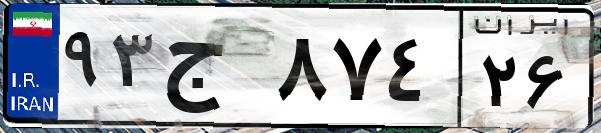2: (475, 38, 525, 113)
3: (110, 28, 158, 98)
4: (385, 28, 445, 110)
6: (525, 38, 570, 115)
7: (330, 28, 385, 110)
8: (270, 28, 330, 110)
9: (57, 26, 110, 100)
ج: (158, 20, 270, 120)
